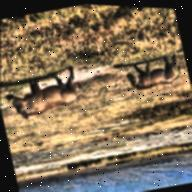boar: (2, 63, 86, 127)
